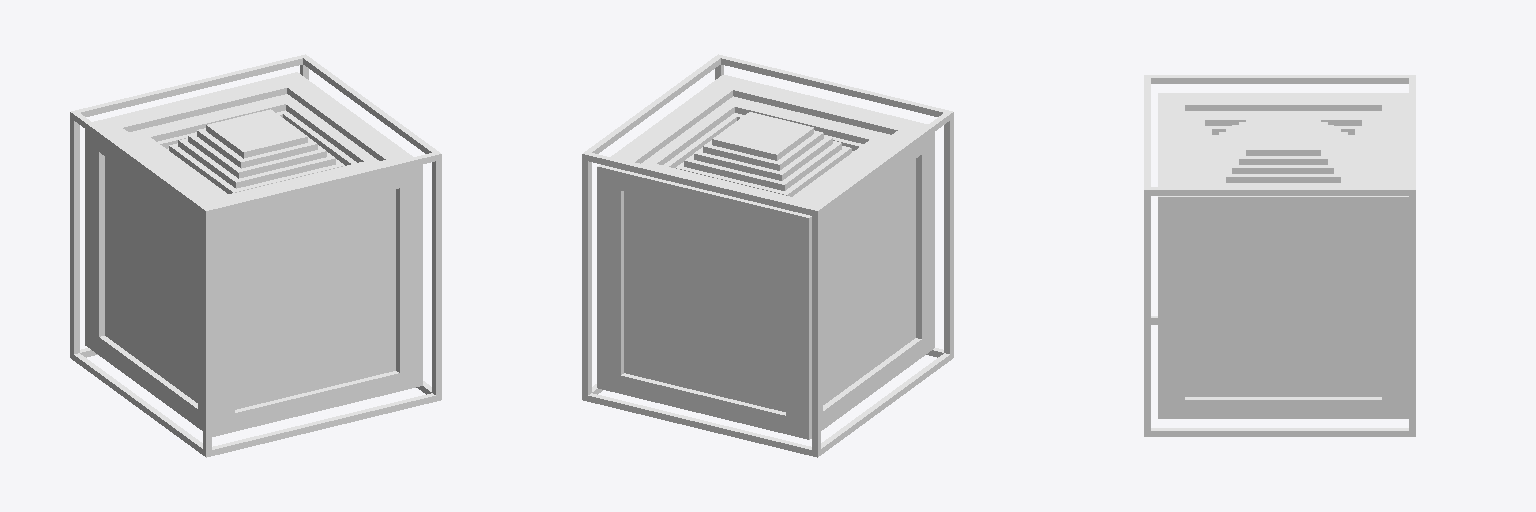
The model's file is drooling_box.obj.
3 renders of one model, left to right at view 1: azimuth 30°, elevation 25°; view 2: azimuth 150°, elevation 25°; view 3: azimuth 270°, elevation 25°, orthographic.
Visible parts, largest first — view 1: drooling_box; view 2: drooling_box; view 3: drooling_box.
Part boxes in pixels (bbox=[...]): drooling_box: bbox=[70, 54, 441, 457]; drooling_box: bbox=[582, 54, 953, 457]; drooling_box: bbox=[1144, 75, 1415, 436].
Bounding box in the file's own units: 40 × 40 × 40.